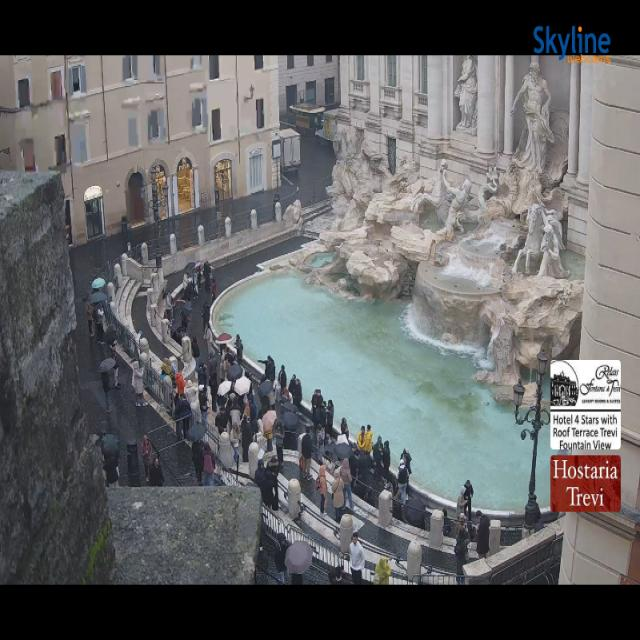person: (454, 515, 468, 584), (255, 459, 273, 508), (175, 394, 192, 440), (350, 532, 365, 584), (275, 532, 289, 583), (340, 458, 353, 511), (208, 350, 219, 412), (132, 363, 147, 407), (476, 511, 490, 558), (332, 469, 344, 522), (268, 457, 279, 511), (274, 419, 285, 470), (301, 426, 312, 476), (192, 441, 204, 486), (110, 340, 121, 389), (241, 415, 252, 462), (104, 456, 119, 488), (288, 375, 302, 408), (204, 443, 215, 485), (392, 480, 403, 521), (318, 464, 327, 514), (161, 375, 175, 407), (374, 558, 391, 584), (142, 435, 152, 479), (348, 449, 359, 489), (372, 436, 383, 476), (312, 390, 323, 430), (215, 406, 230, 435), (185, 380, 199, 411), (398, 462, 408, 504), (149, 457, 163, 487), (259, 356, 275, 382), (352, 478, 369, 502), (101, 372, 111, 412), (455, 515, 470, 541), (254, 458, 266, 490), (85, 298, 95, 336), (230, 424, 240, 462), (464, 480, 473, 522), (161, 358, 175, 385), (204, 323, 215, 357), (336, 418, 350, 444), (199, 384, 208, 424), (456, 486, 467, 518), (248, 388, 258, 423), (318, 402, 326, 444), (330, 568, 351, 584), (230, 395, 241, 425), (326, 399, 334, 439), (356, 455, 371, 476), (96, 305, 104, 344), (182, 273, 193, 301), (382, 442, 390, 480), (220, 352, 230, 382), (442, 508, 452, 537), (317, 423, 325, 459), (364, 425, 373, 456), (252, 412, 261, 441), (401, 450, 411, 476), (278, 365, 287, 392), (202, 304, 210, 334), (272, 192, 280, 221), (192, 336, 199, 369), (165, 292, 172, 324), (183, 271, 191, 299), (535, 503, 543, 531), (224, 344, 235, 364), (176, 373, 186, 395), (468, 522, 479, 542), (173, 388, 180, 419), (198, 363, 207, 387), (181, 314, 190, 337), (192, 269, 199, 298), (236, 335, 243, 364), (204, 262, 211, 291), (274, 379, 282, 404), (357, 426, 365, 451), (389, 476, 399, 495), (243, 395, 250, 422), (268, 382, 275, 409), (336, 430, 349, 444), (268, 356, 275, 382), (170, 360, 178, 381), (196, 265, 203, 288), (341, 418, 349, 438), (281, 388, 291, 403), (212, 272, 216, 302)
